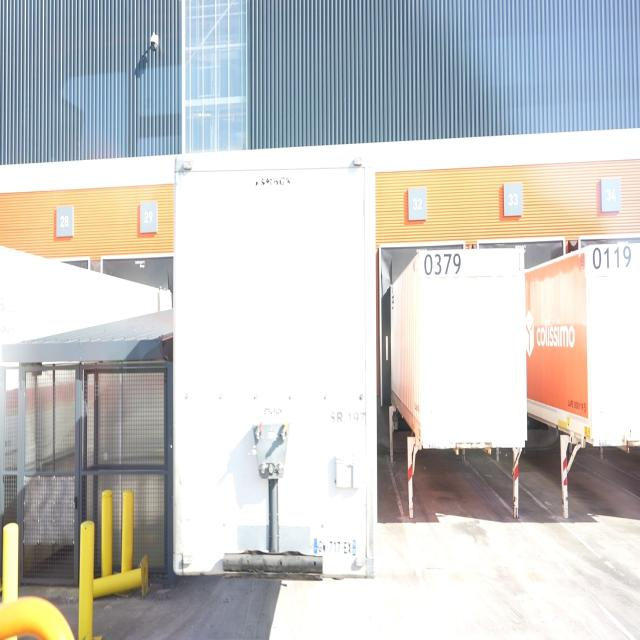Code: (418, 247, 464, 281), (591, 243, 633, 274)
